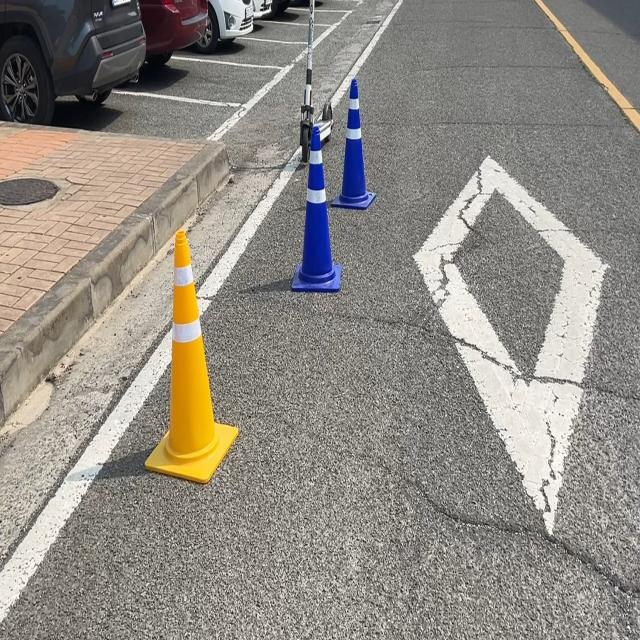b_rub: (292, 124, 342, 291), (332, 76, 376, 208)
y_rub: (144, 230, 238, 483)
